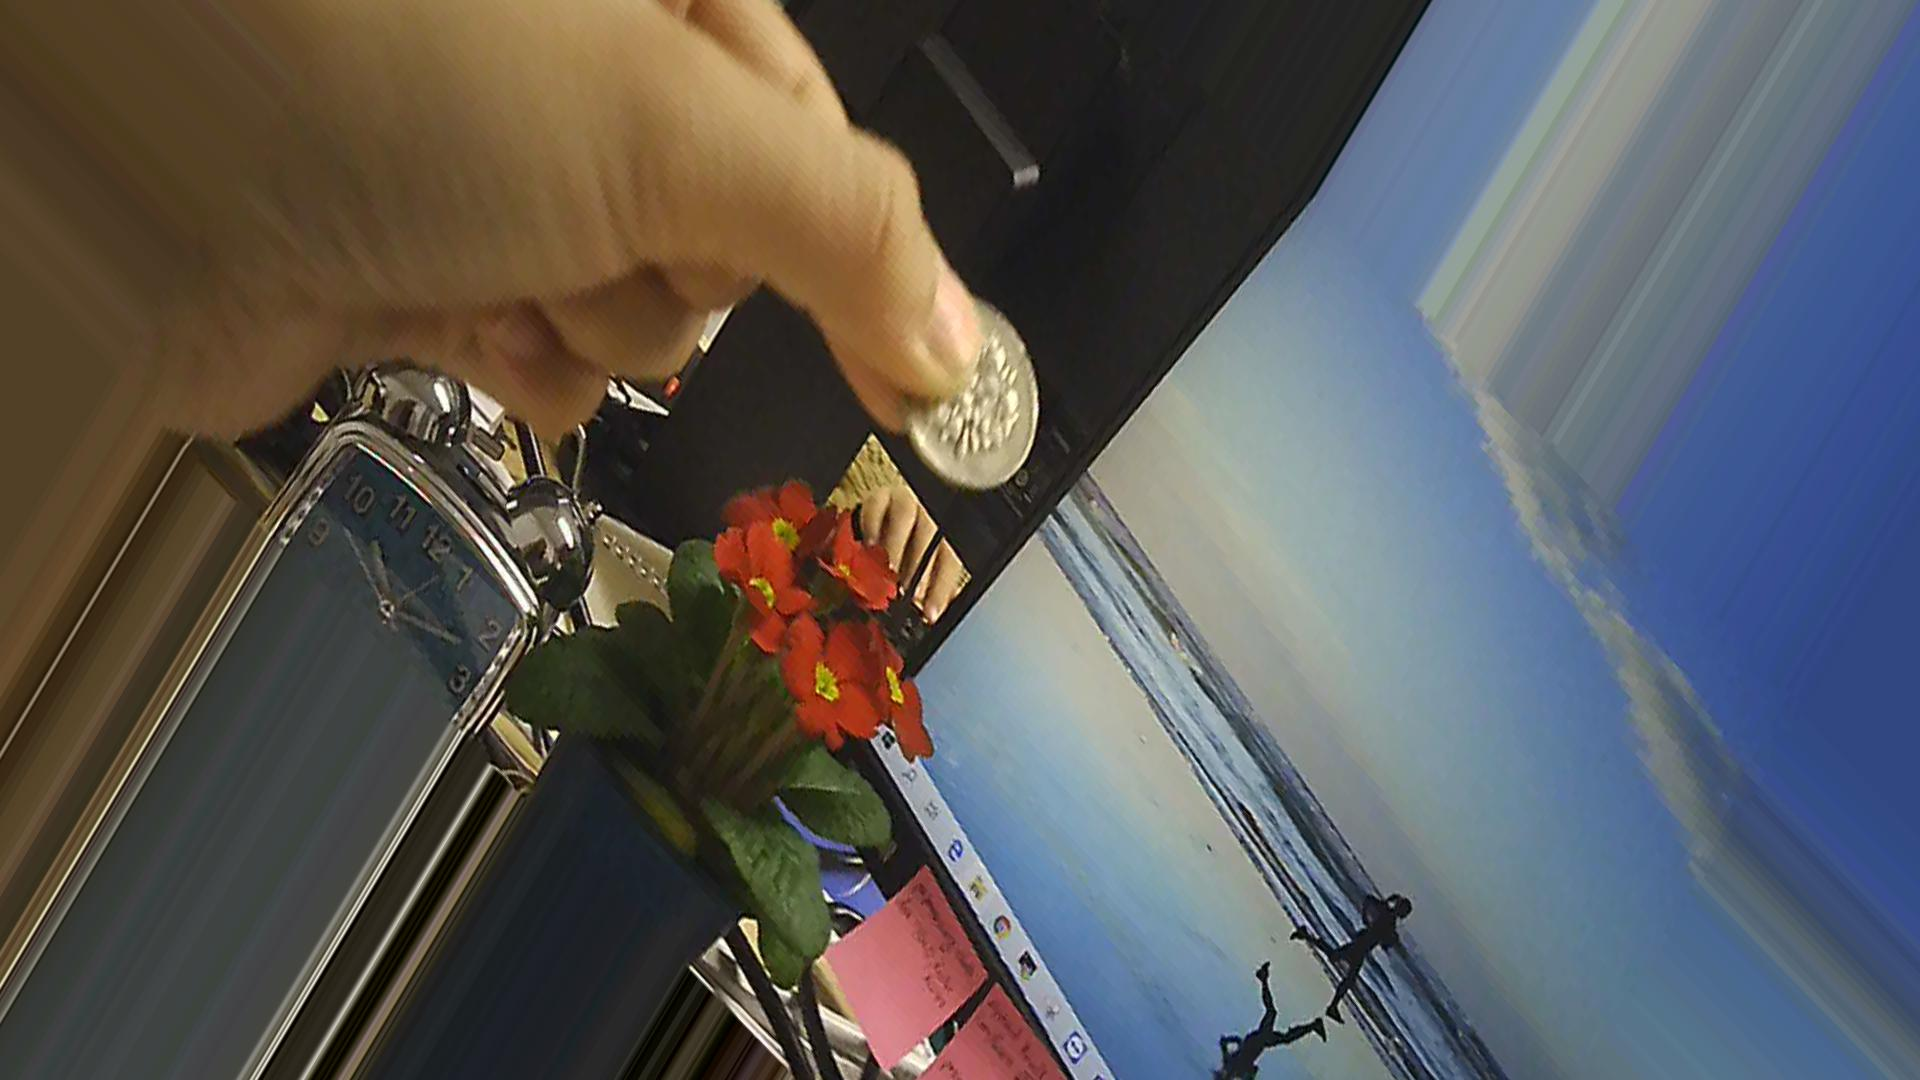100 Yen: (889, 276, 1052, 498)
